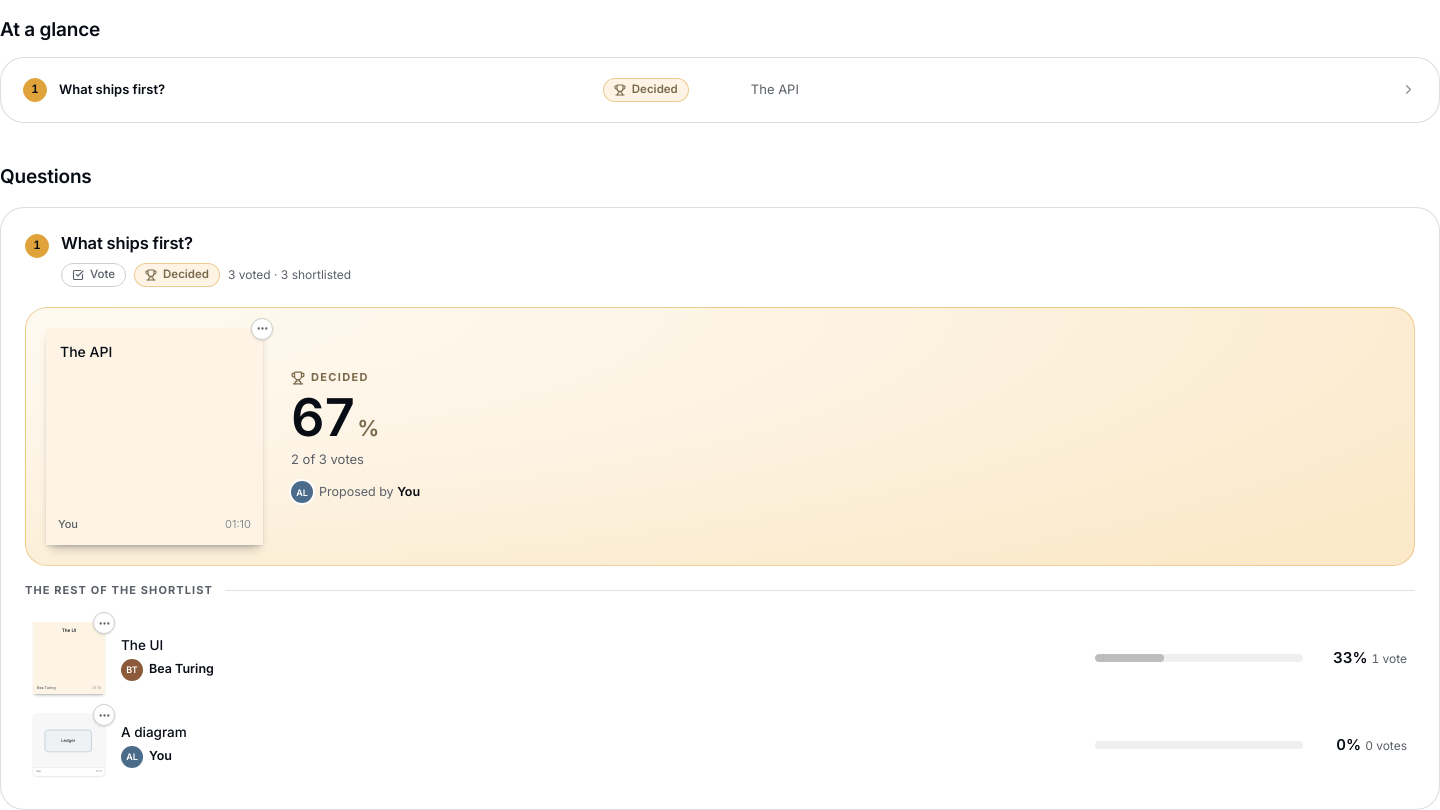
Scenario: SessionSummaryView card actions › opens a ranked canvas in the board’s enlarged view, with its zoom and export
(page scrolled)
Click the button with aria-label "Enlarge: A diagram" at [69, 746], box [33, 714, 105, 777]
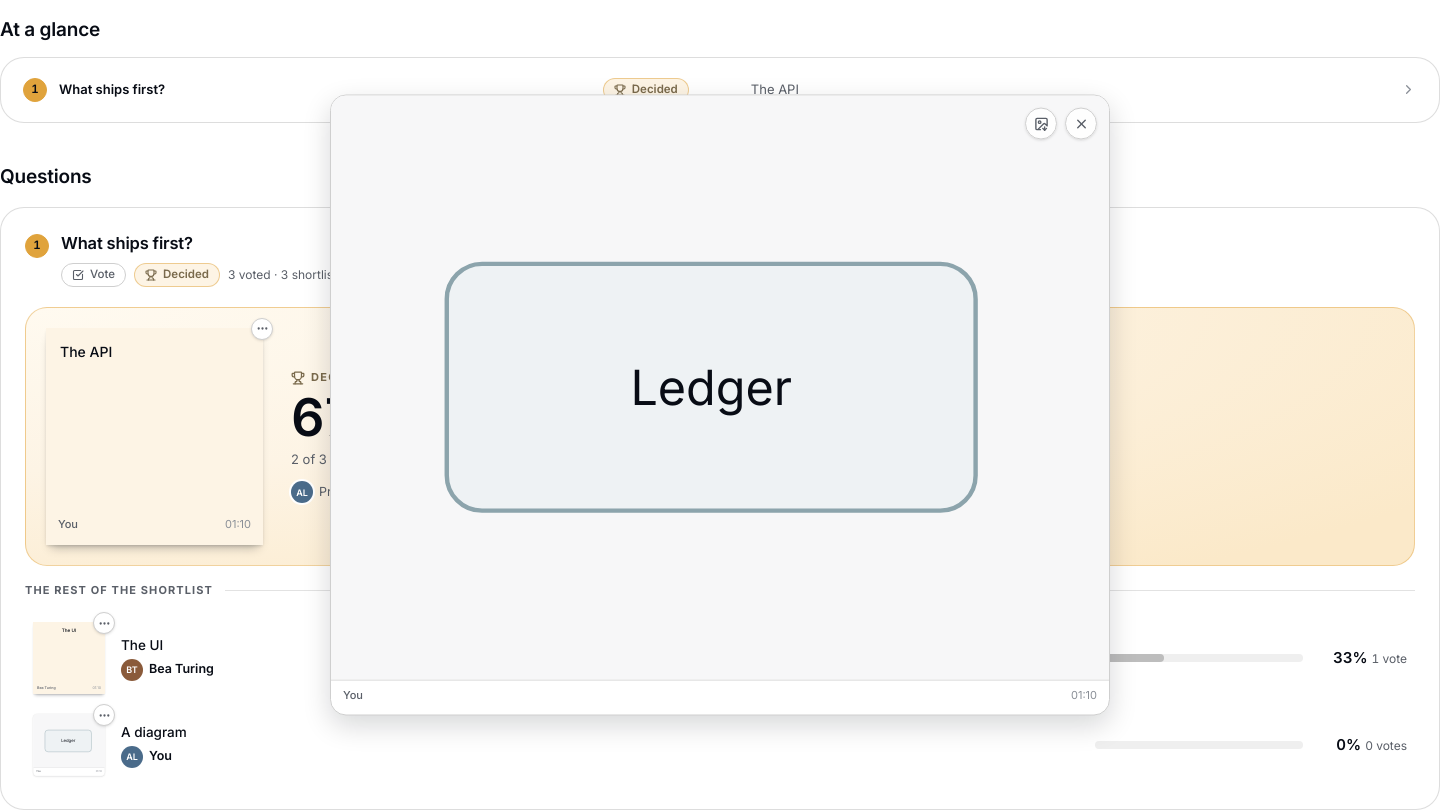
Check: the button with aria-label "Zoom in" is shown, box [331, 96, 1109, 679]
Check: the button named "Export as PNG: diagram by Ada Lovelace" is shown, box [1025, 108, 1057, 140]
